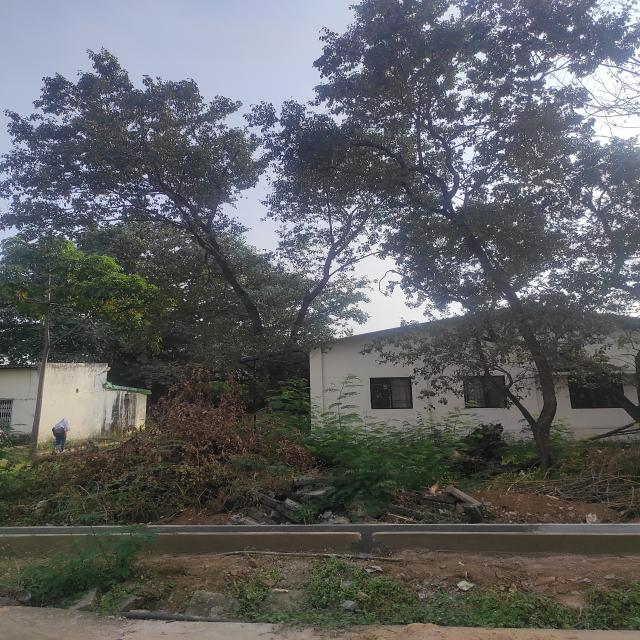Devakanchan tree: (34, 60, 306, 380), (365, 77, 606, 432)
